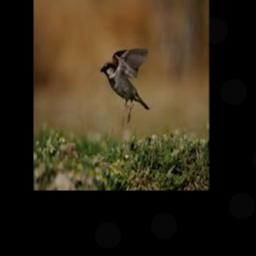Sparrow: (100, 48, 150, 128)
